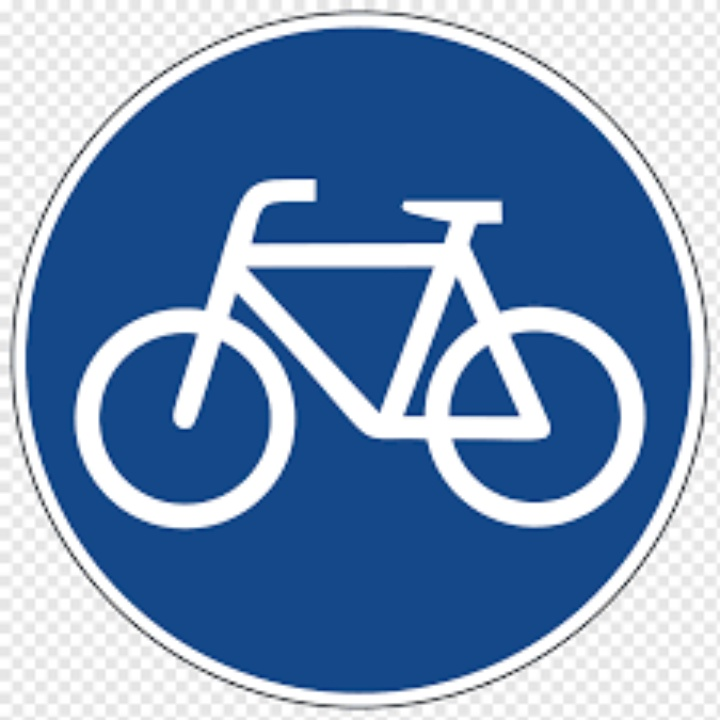bicycle: (75, 179, 649, 531)
